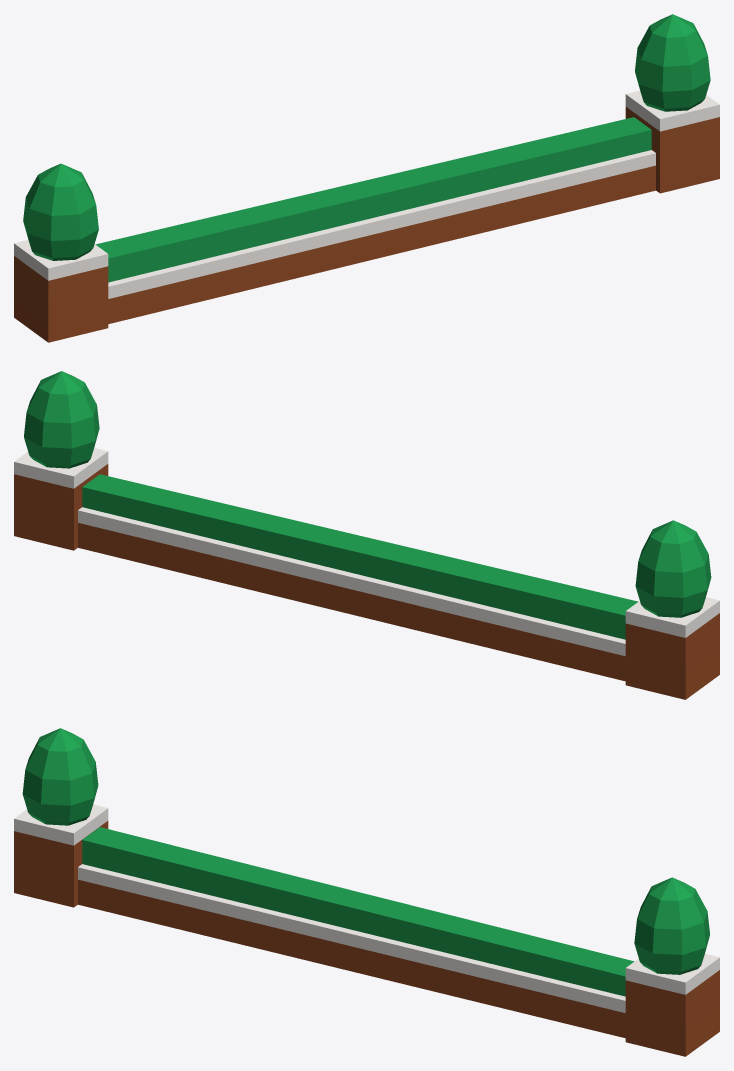
File: plants 2.fbx
The picture shows the model from 3 angles, top to bottom: view 1: azimuth 30°, elevation 25°; view 2: azimuth 150°, elevation 25°; view 3: azimuth 330°, elevation 25°; orthographic projection.
Parts seen in each view (by area): view 1: plants_2; view 2: plants_2; view 3: plants_2.
Boxes of the visible parts, left/top/right/bottom form: plants_2: left=14, top=14, right=719, bottom=342; plants_2: left=14, top=371, right=719, bottom=699; plants_2: left=14, top=728, right=719, bottom=1056.
Bounding box in the file's own units: 702 × 158 × 70.2.
1 material, 1 textured.
